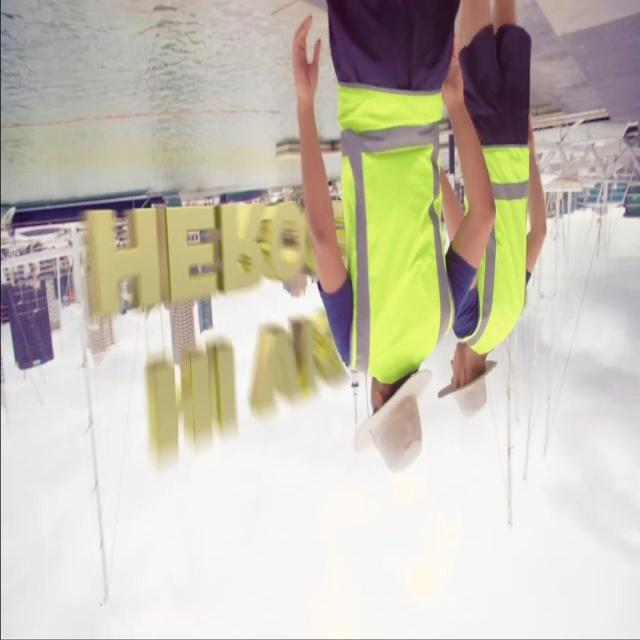jacket: (312, 80, 456, 370), (456, 127, 542, 364)
